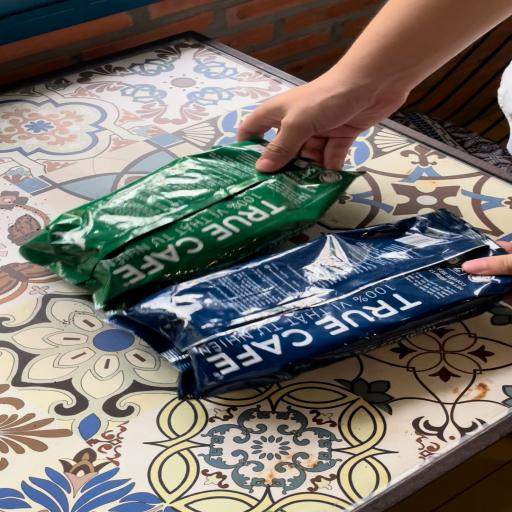cafe_hat: (111, 210, 512, 399)
cafe_xay: (19, 138, 359, 310)
